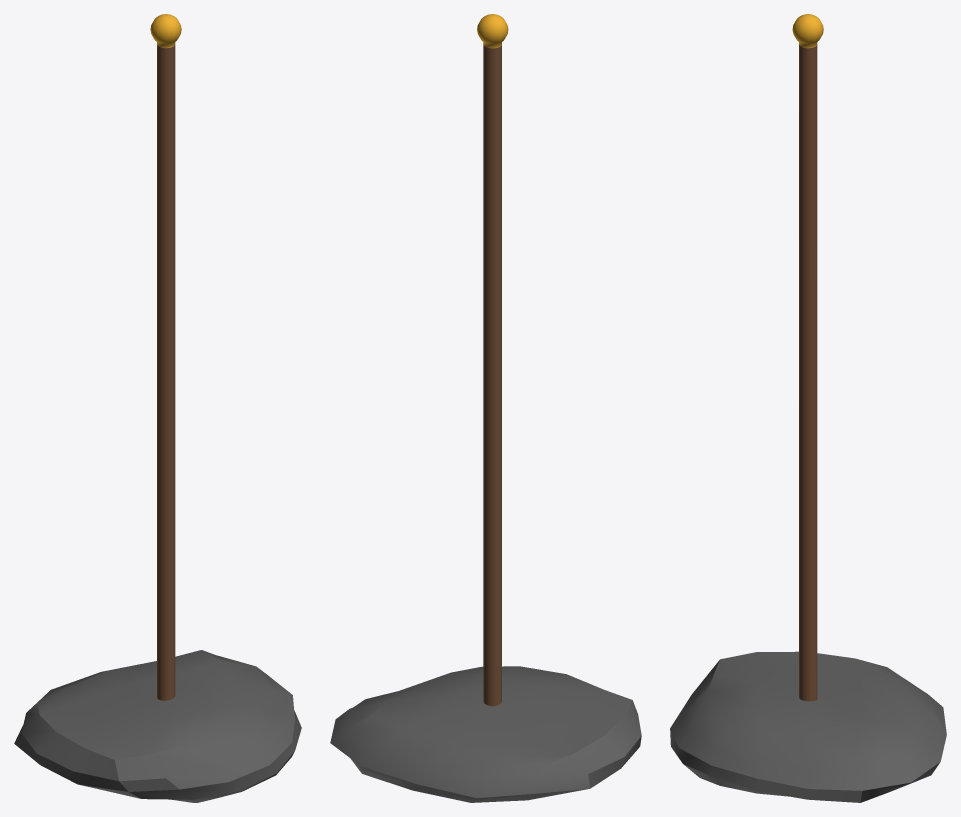
File: 625d5060-86c3-434a-b5f4-f768fa4e4ace.glb
3 views of the same model, side by side, from view 1: azimuth 30°, elevation 25°; view 2: azimuth 150°, elevation 25°; view 3: azimuth 270°, elevation 25° (orthographic).
Parts seen in each view (by area): view 1: RockBase, FlagStandClassic; view 2: RockBase, FlagStandClassic; view 3: RockBase, FlagStandClassic.
Part boxes in pixels (<box>): RockBase: <box>14,650,301,802</box>; FlagStandClassic: <box>150,14,181,700</box>; RockBase: <box>330,666,641,802</box>; FlagStandClassic: <box>477,14,508,706</box>; RockBase: <box>670,651,946,802</box>; FlagStandClassic: <box>792,14,823,701</box>.
Size of what is drawn, in the model's own units: 0.6406 by 1.74 by 0.5883.
Materials: 2 (2 with a texture image).
